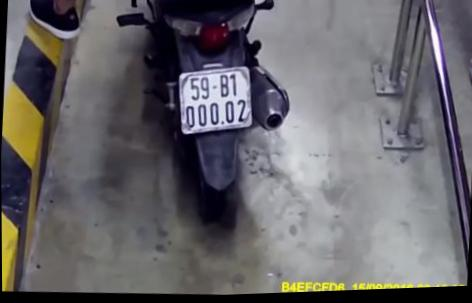LP: (174, 63, 254, 137)
